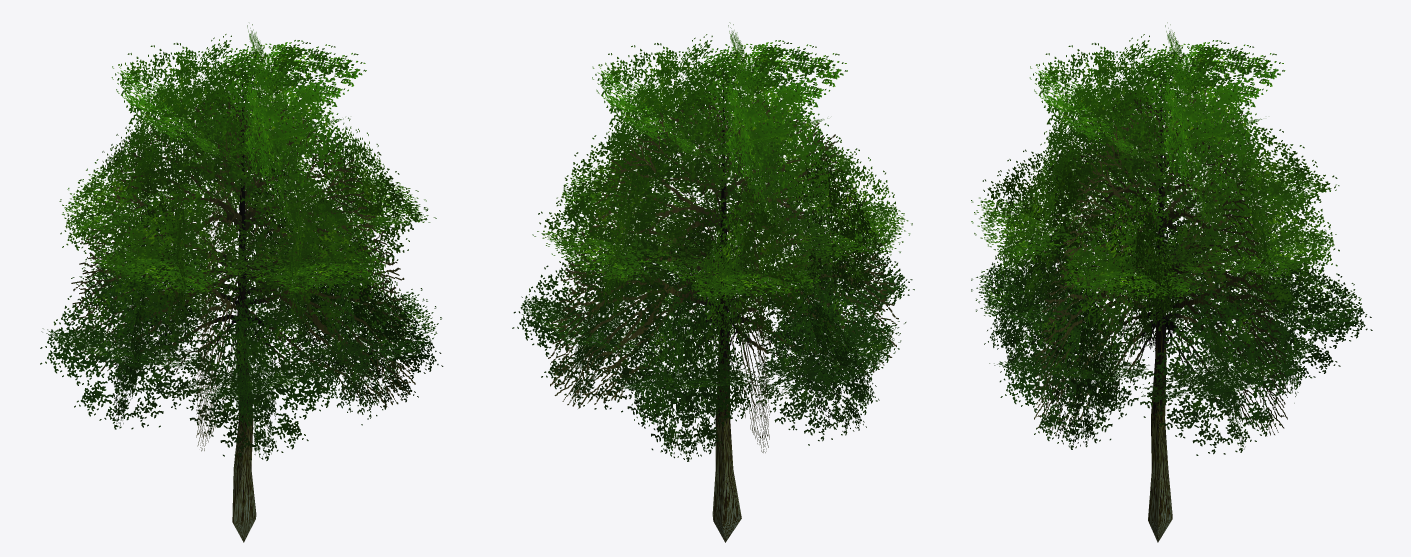
The picture shows the model from 3 angles, left to right: view 1: azimuth 30°, elevation 25°; view 2: azimuth 150°, elevation 25°; view 3: azimuth 270°, elevation 25°; orthographic projection.
Visible parts, largest first — view 1: es_1; view 2: es_1; view 3: es_1.
Part boxes in pixels (left/top/right/bottom): es_1: left=40, top=24, right=443, bottom=542; es_1: left=512, top=22, right=914, bottom=542; es_1: left=971, top=22, right=1372, bottom=542.
Bounding box in the file's own units: 522 × 671 × 504.
